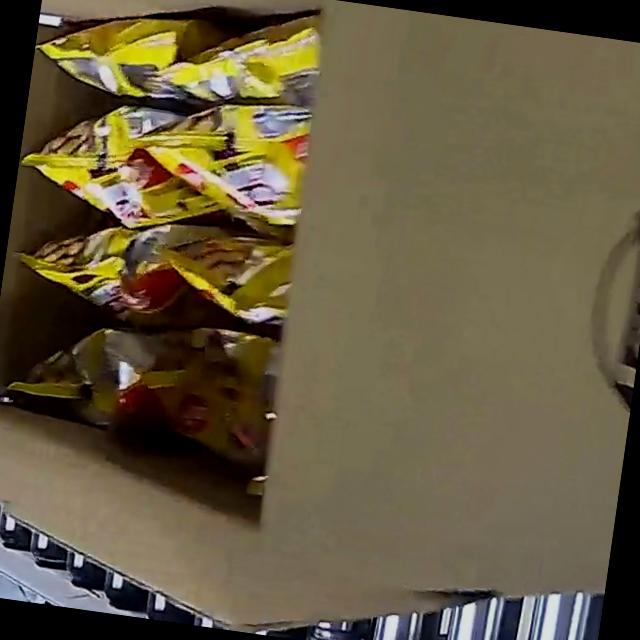salted: (0, 0, 346, 490)
